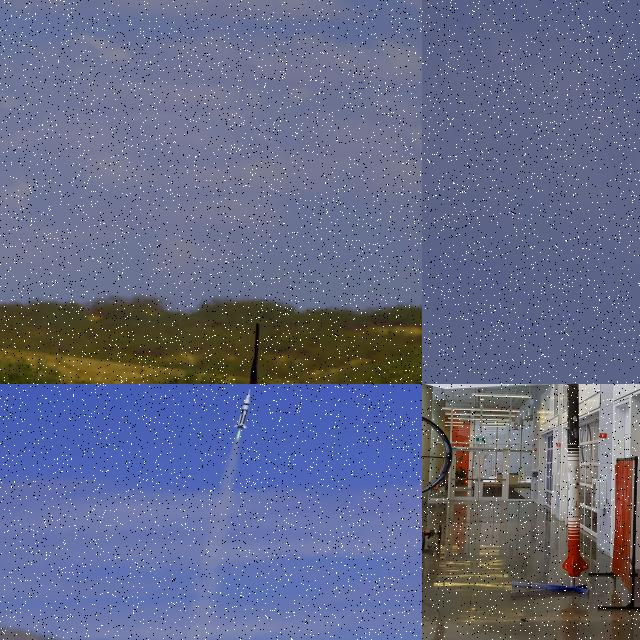Rocket: (562, 384, 589, 578), (232, 355, 263, 384), (234, 388, 252, 429)
